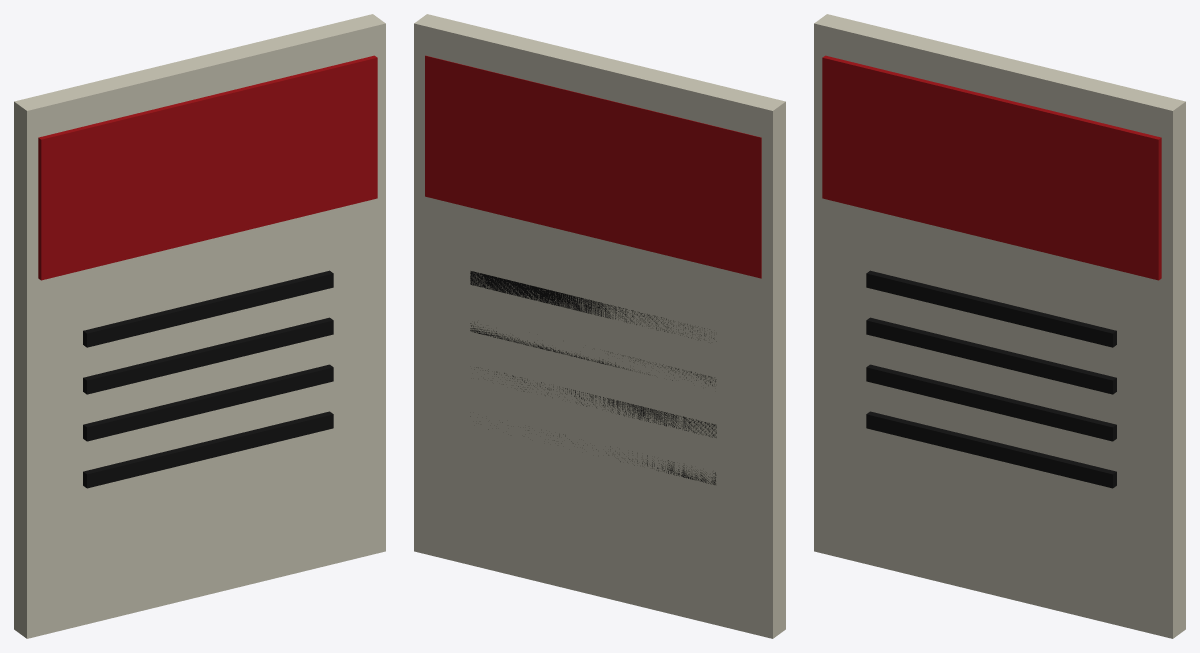
File: PRP_Calendar_A.glb
The picture shows the model from 3 angles, left to right: view 1: azimuth 30°, elevation 25°; view 2: azimuth 150°, elevation 25°; view 3: azimuth 330°, elevation 25°; orthographic projection.
Visible parts, largest first — view 1: PRP_Calendar_A_Mesh; view 2: PRP_Calendar_A_Mesh; view 3: PRP_Calendar_A_Mesh.
Part boxes in pixels (box(x1,y1,x2,y2)): PRP_Calendar_A_Mesh: box(14, 14, 385, 638); PRP_Calendar_A_Mesh: box(414, 14, 785, 638); PRP_Calendar_A_Mesh: box(814, 14, 1185, 638).
Bounding box in the file's own units: 0.32 × 0.45 × 0.0265.
